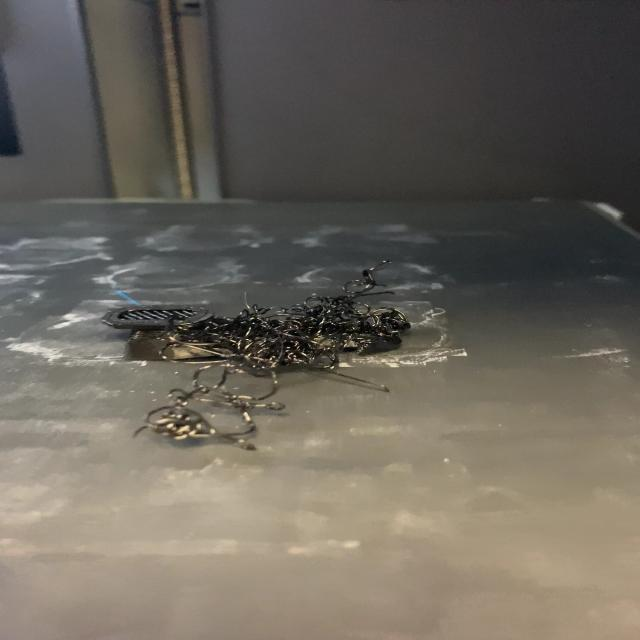spaghetti: (96, 256, 456, 454)
